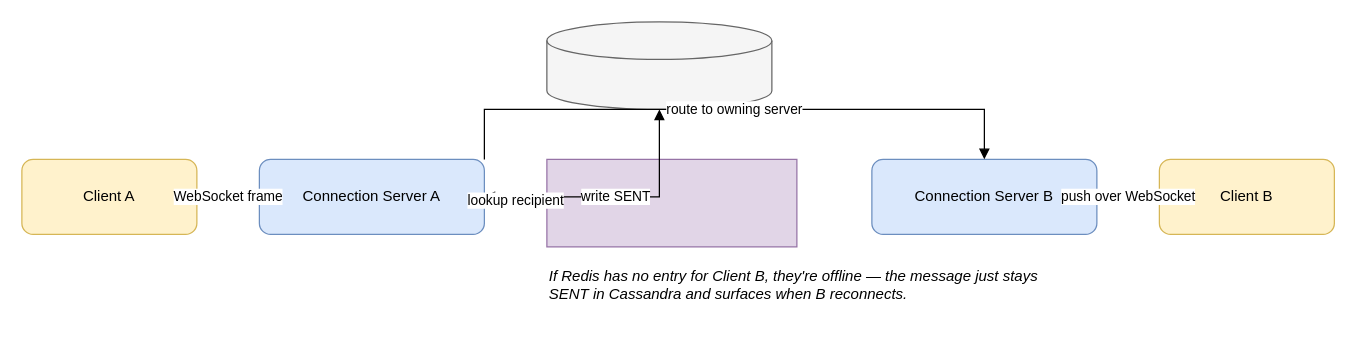
Image size: 1356x344. Some labels were removed from this diagram. Each missing label, with the centre of its shape:
"Cassandra messages" goes at (x=659, y=65).
"Redis conn:{userId} -> serverId" goes at (x=671, y=202).
